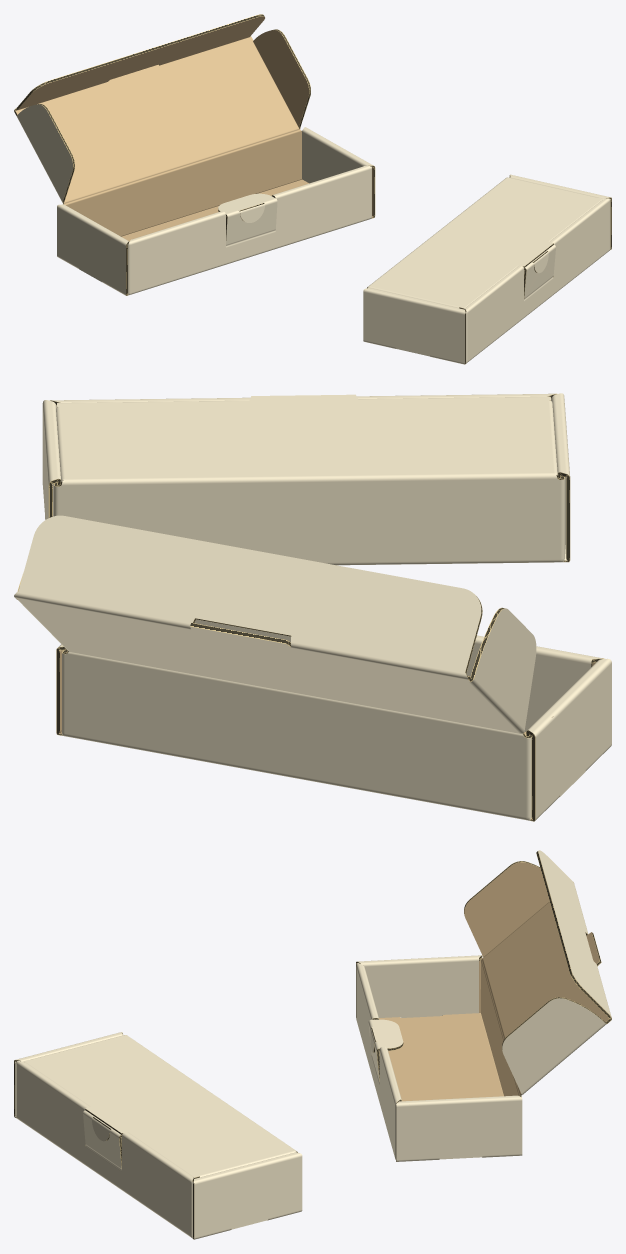
File: TroquelMando.gltf
The picture shows the model from 3 angles, top to bottom: view 1: azimuth 30°, elevation 25°; view 2: azimuth 150°, elevation 25°; view 3: azimuth 270°, elevation 25°; orthographic projection. The views are drawn at different scales.
Parts seen in each view (by area): view 1: TQ_ARD-node.001; view 2: TQ_ARD-node.001; view 3: TQ_ARD-node.001.
Part boxes in pixels (bbox=[...]): TQ_ARD-node.001: bbox=[14, 14, 611, 364]; TQ_ARD-node.001: bbox=[14, 393, 611, 821]; TQ_ARD-node.001: bbox=[14, 850, 611, 1239].
Size of the model in its own units: 0.3158 by 0.11 by 0.3484.
Materials: 6 (2 with a texture image).
